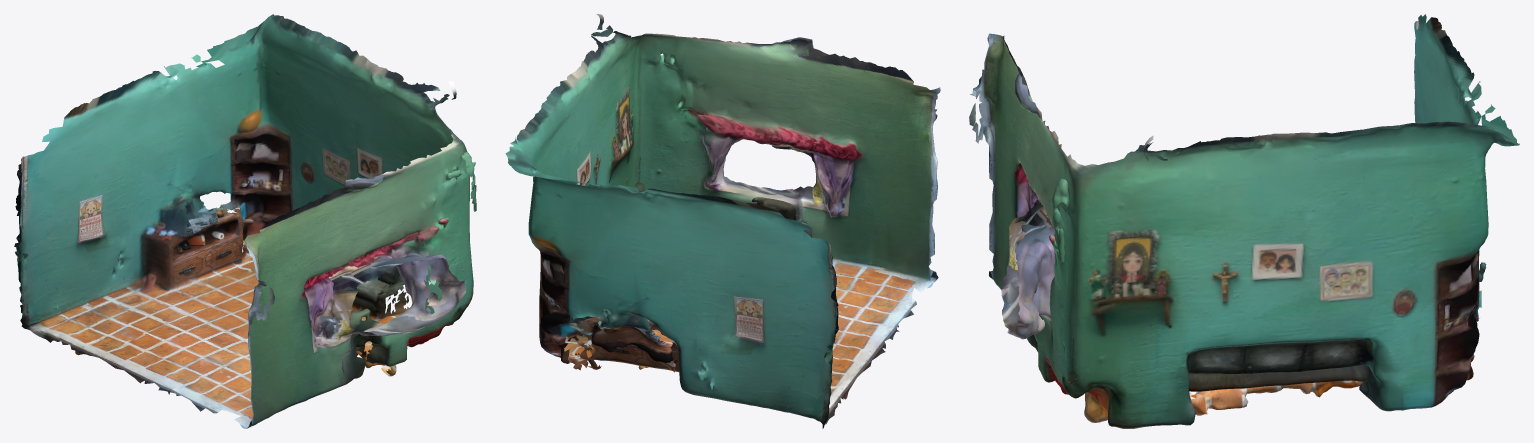
File: el-vacio.glb
3 renders of one model, left to right at view 1: azimuth 30°, elevation 25°; view 2: azimuth 150°, elevation 25°; view 3: azimuth 270°, elevation 25°, orthographic. The views are drawn at different scales.
Visible parts, largest first — view 1: sala-anciano; view 2: sala-anciano; view 3: sala-anciano.
Boxes of the visible parts, box(x1,y1,x2,y2) form: sala-anciano: box(14, 14, 476, 428); sala-anciano: box(505, 14, 940, 428); sala-anciano: box(969, 14, 1519, 428).
Bounding box in the file's own units: 1.67 × 1.22 × 1.8.
Materials: 1 (1 with a texture image).
